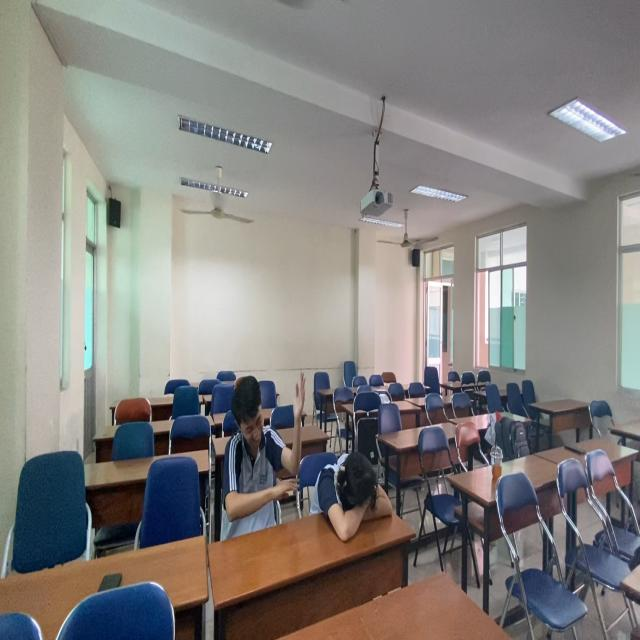raise_hand: (220, 368, 307, 530)
sleep: (310, 442, 401, 542)
